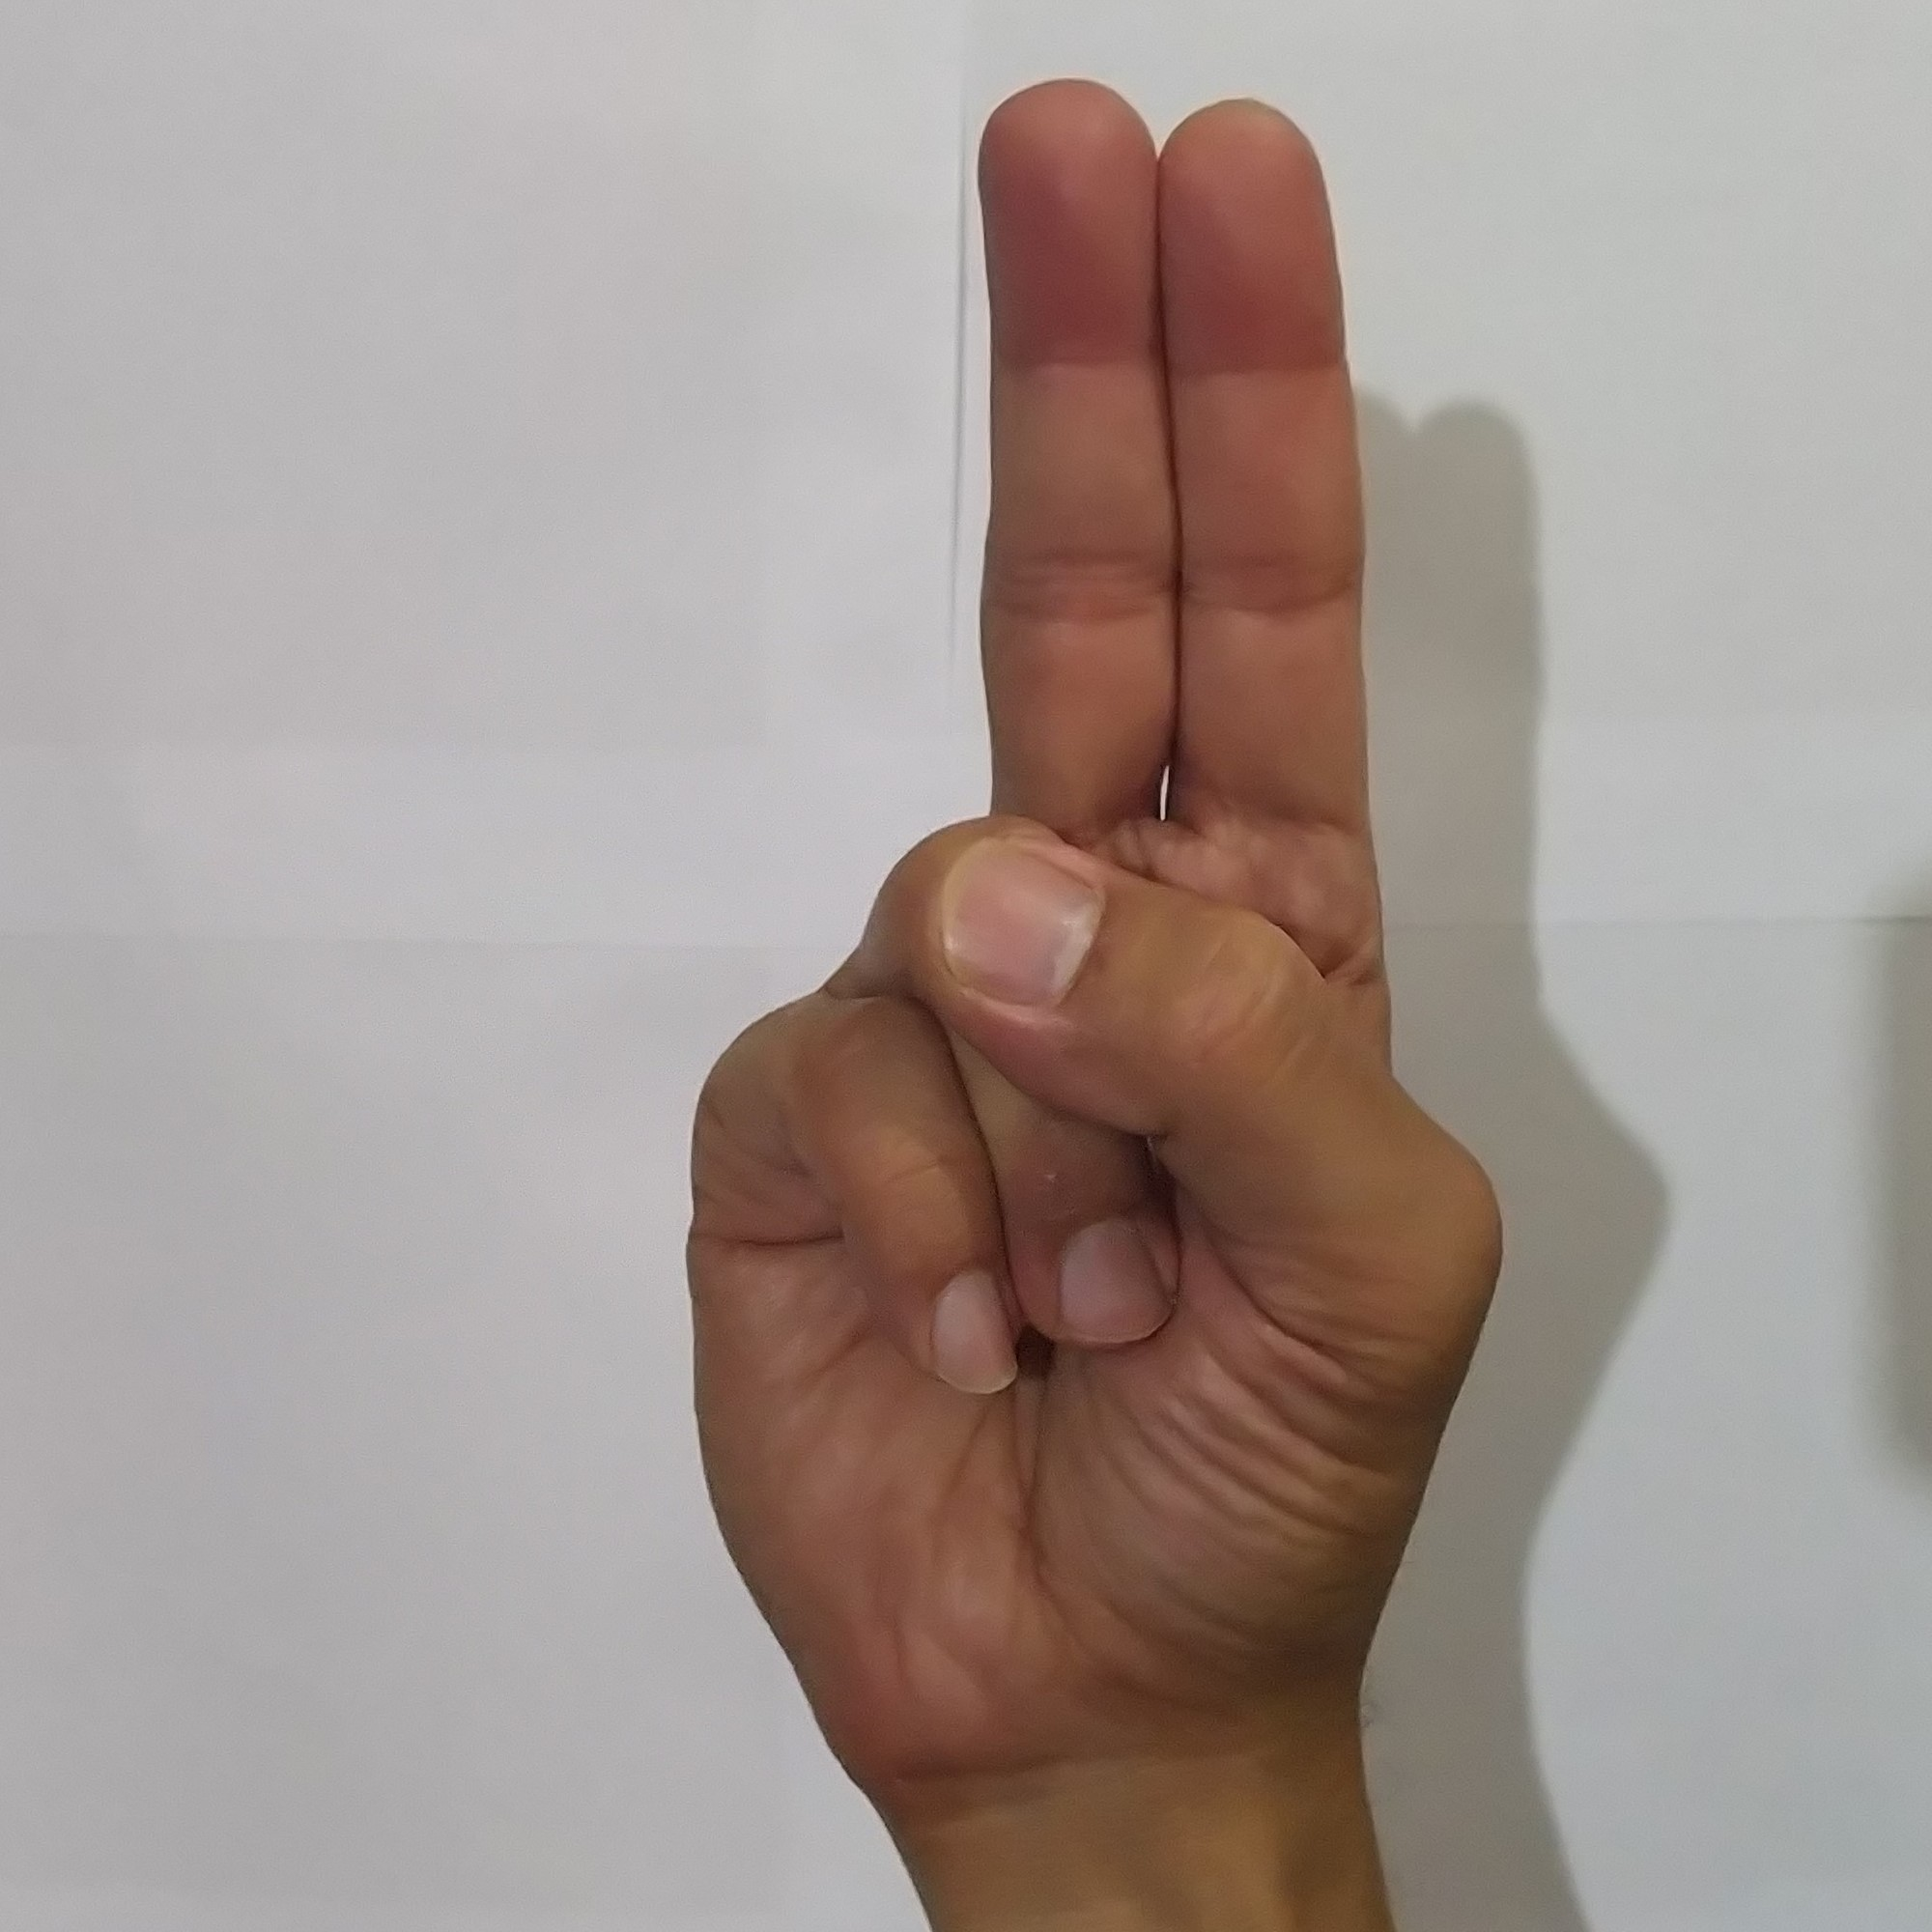U: (639, 41, 1529, 1769)
